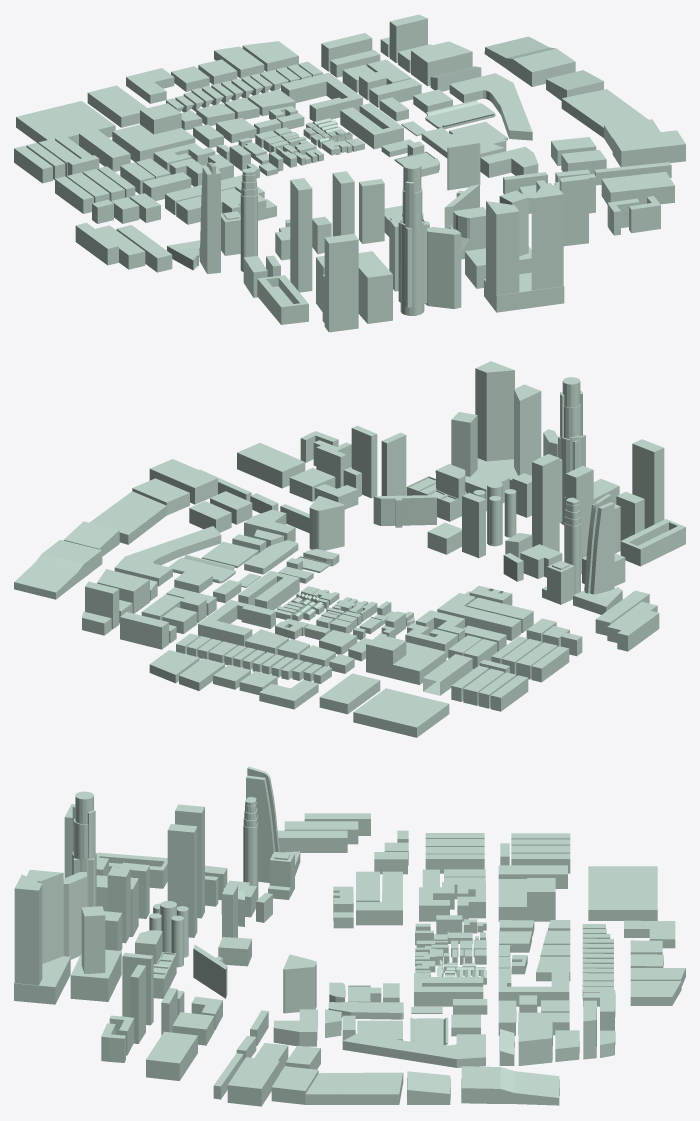
Rendered from transparent buildings.glb.
3 views of the same model, one above another, from view 1: azimuth 30°, elevation 25°; view 2: azimuth 150°, elevation 25°; view 3: azimuth 270°, elevation 25° (orthographic). The views are drawn at different scales.
Parts seen in each view (by area): view 1: transparent buildings newbake; view 2: transparent buildings newbake; view 3: transparent buildings newbake.
Part boxes in pixels (x1=…): transparent buildings newbake: x1=14, y1=14, x2=685, y2=332; transparent buildings newbake: x1=14, y1=361, x2=685, y2=737; transparent buildings newbake: x1=14, y1=766, x2=685, y2=1106.
Size of the model in its own units: 80.15 by 20.57 by 82.54.
Materials: 1 (1 with a texture image).
